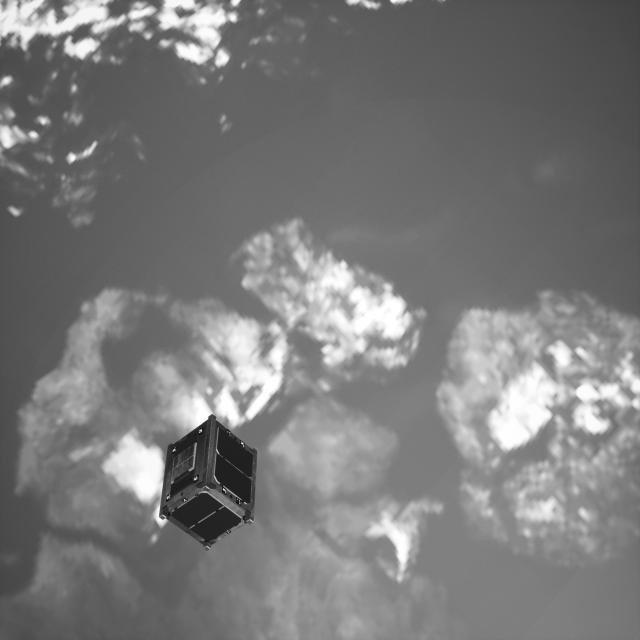satellite: (157, 416, 278, 553)
